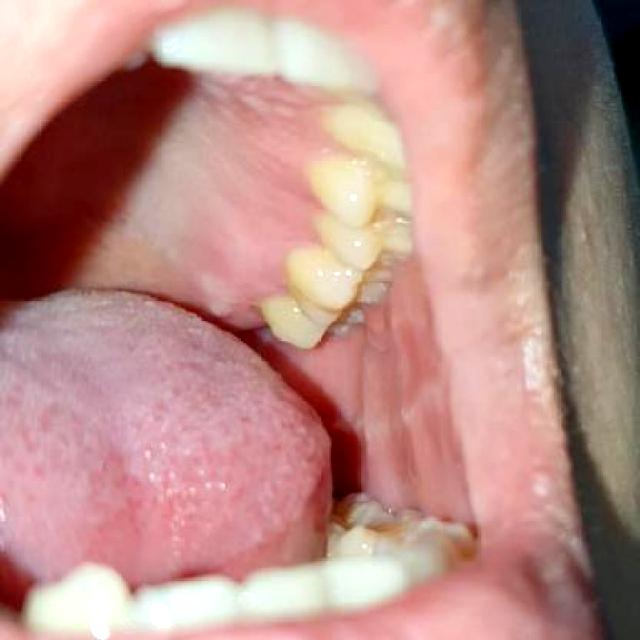Plaque: (239, 216, 318, 338)
